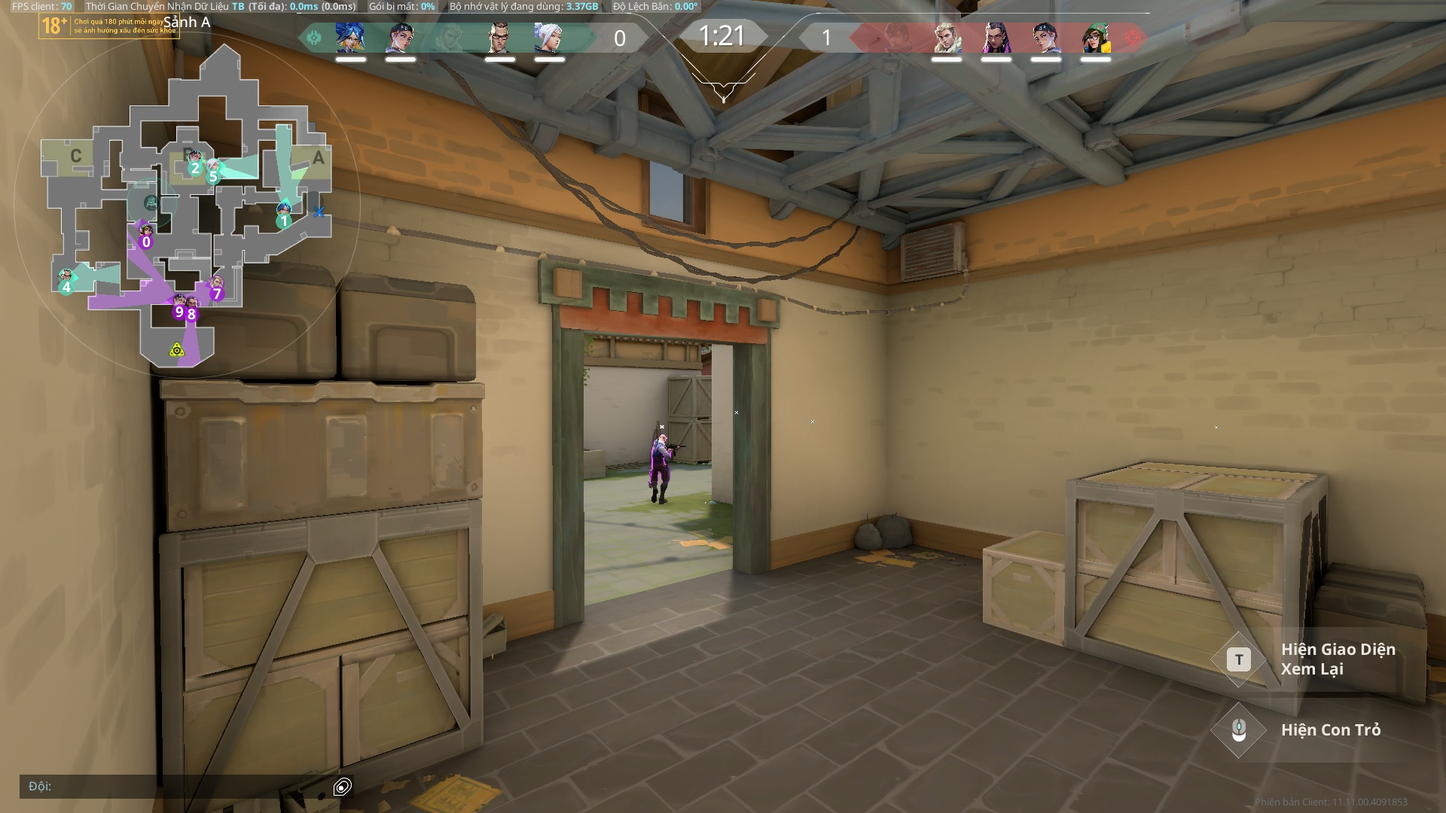body: (651, 440, 668, 462)
head: (657, 433, 667, 442)
